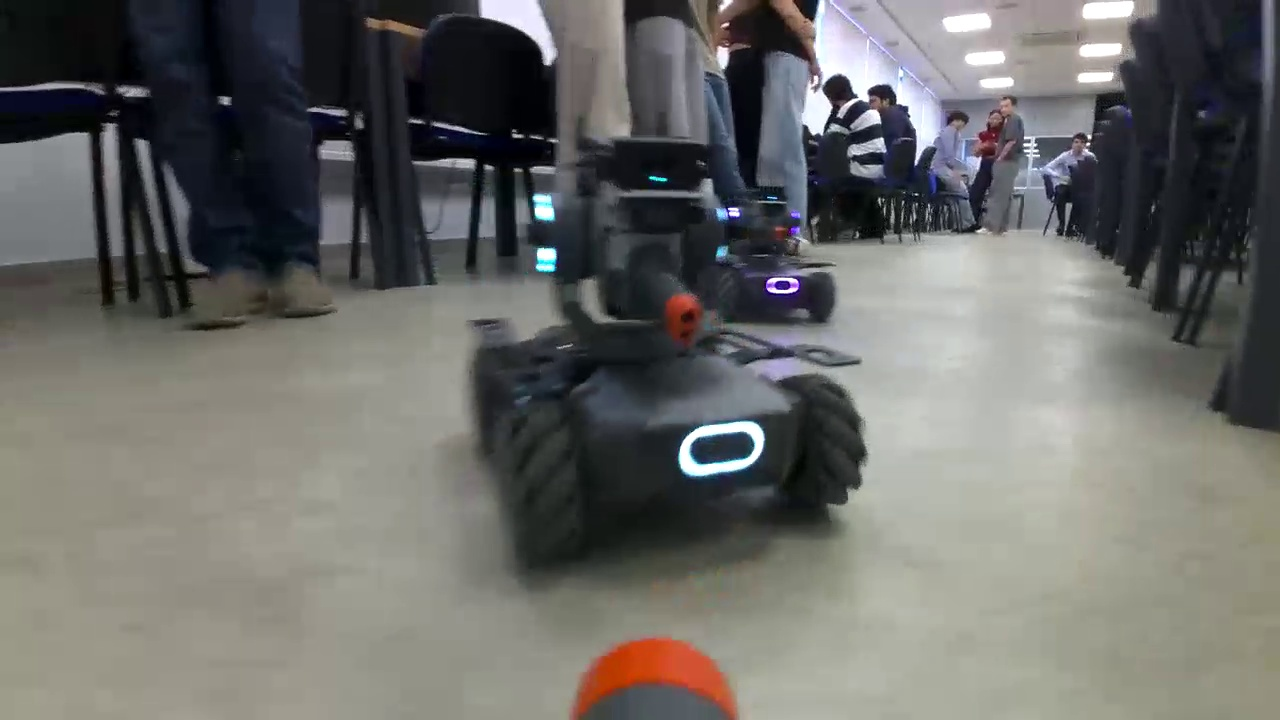robot: (445, 157, 850, 577), (730, 182, 845, 330)
